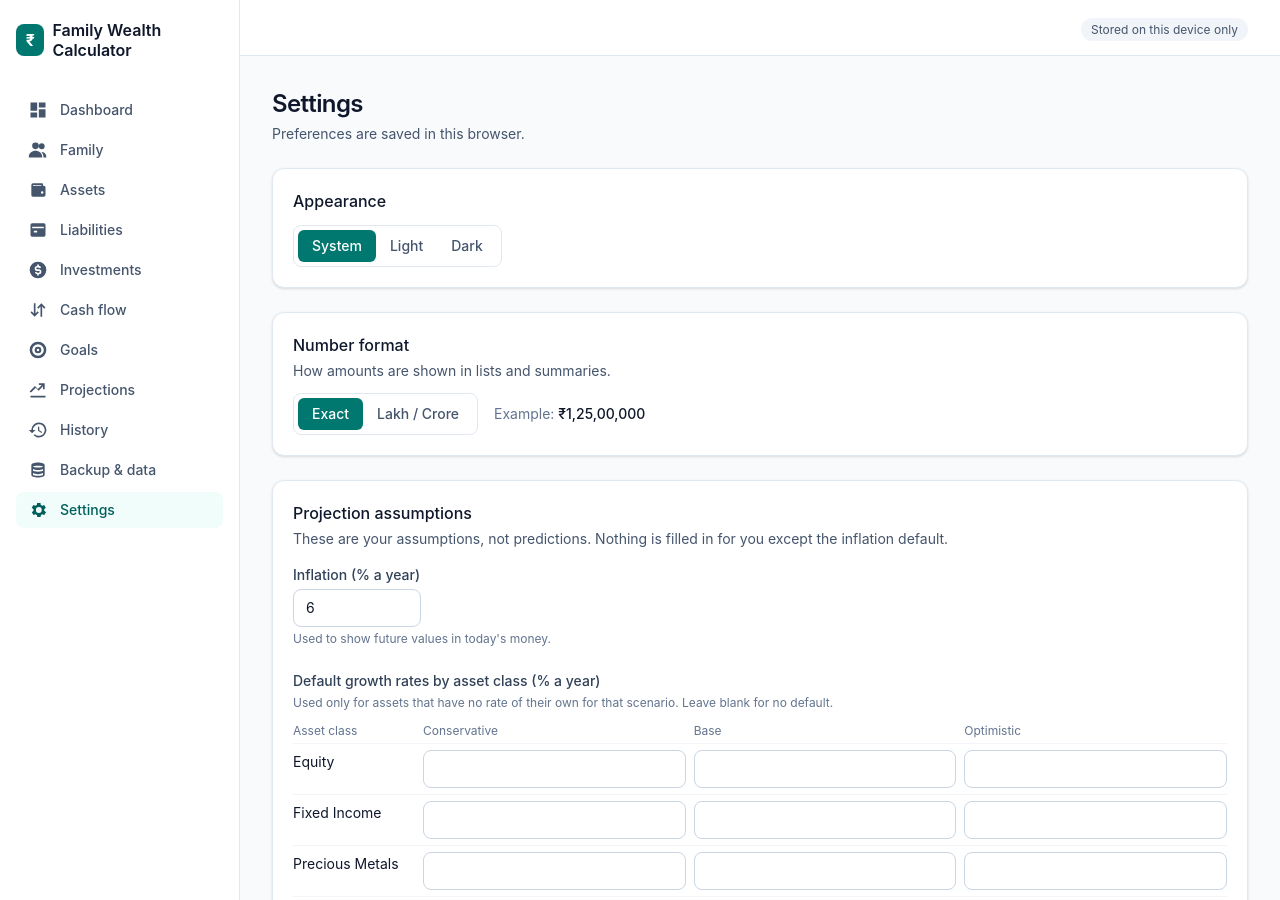
Test: Settings: projection assumptions › validates, saves and persists inflation and class defaults
Replace the text in the field labelled "Inflation (% a year)" with "80": (357, 608) [293, 589, 421, 627]
In the field named "Equity Conservative rate": (554, 769) [423, 750, 686, 788], type "12"
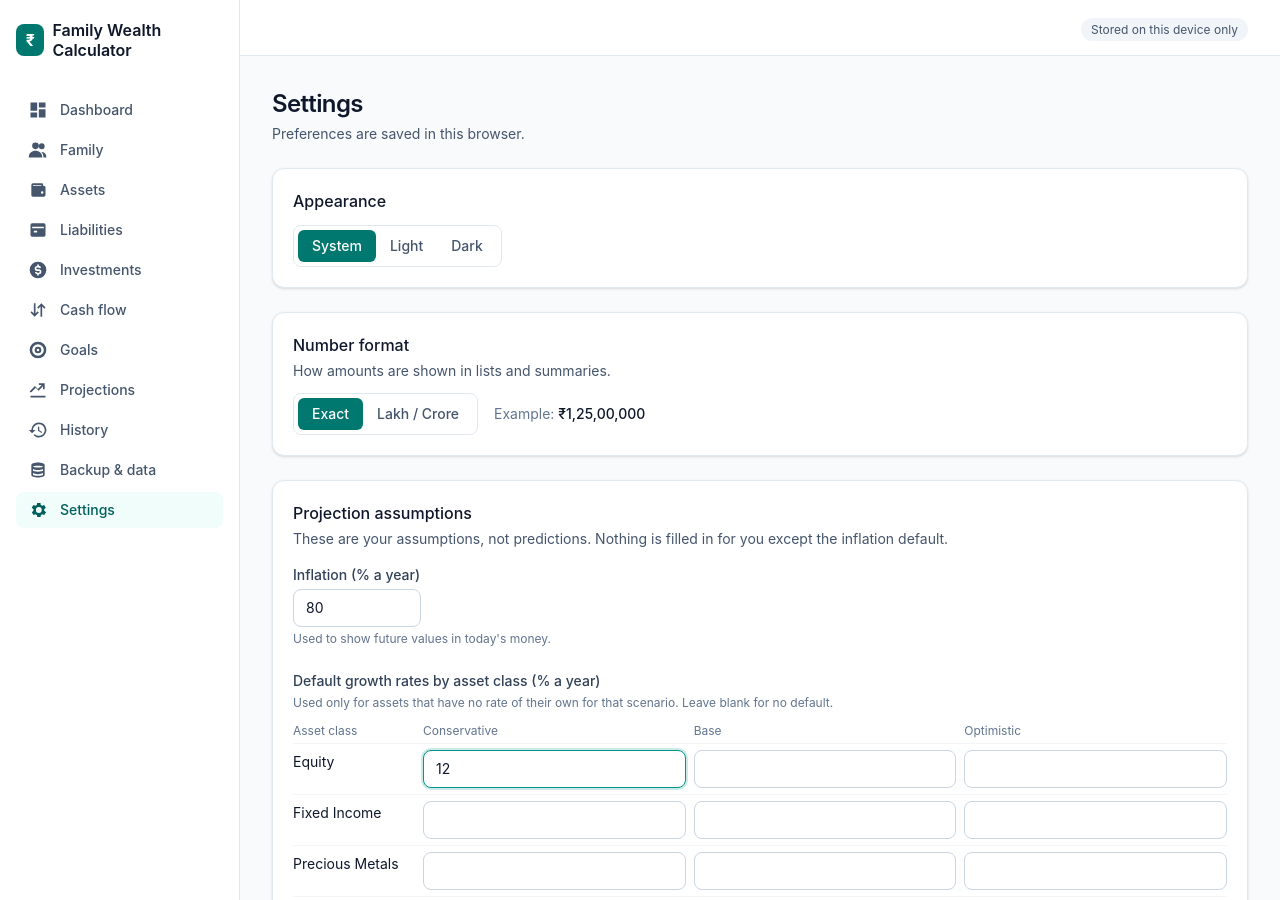
In the field named "Equity Base rate": (825, 769) [694, 750, 956, 788], type "10"
(page scrolled)
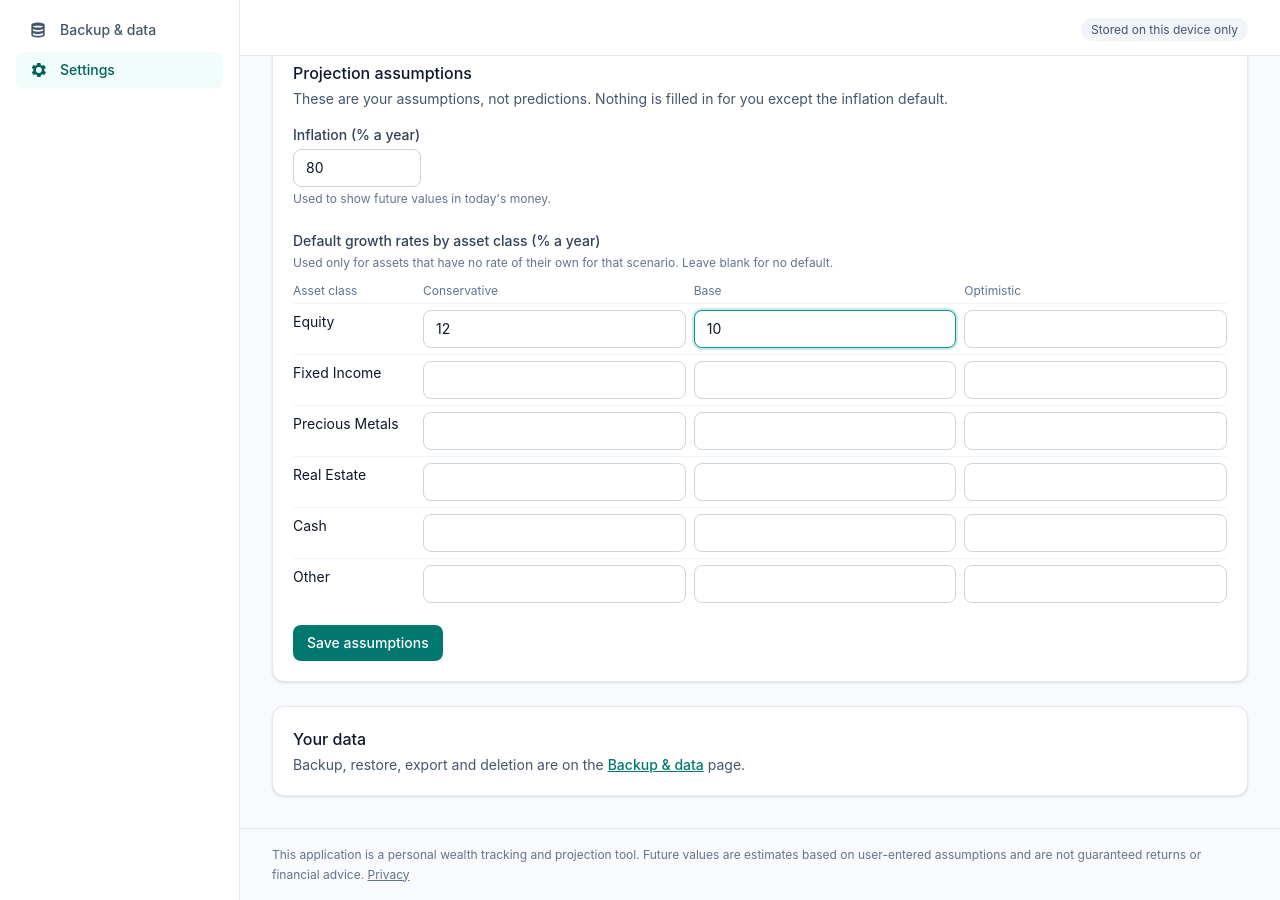
Click the button "Save assumptions": (368, 643) [293, 625, 443, 661]
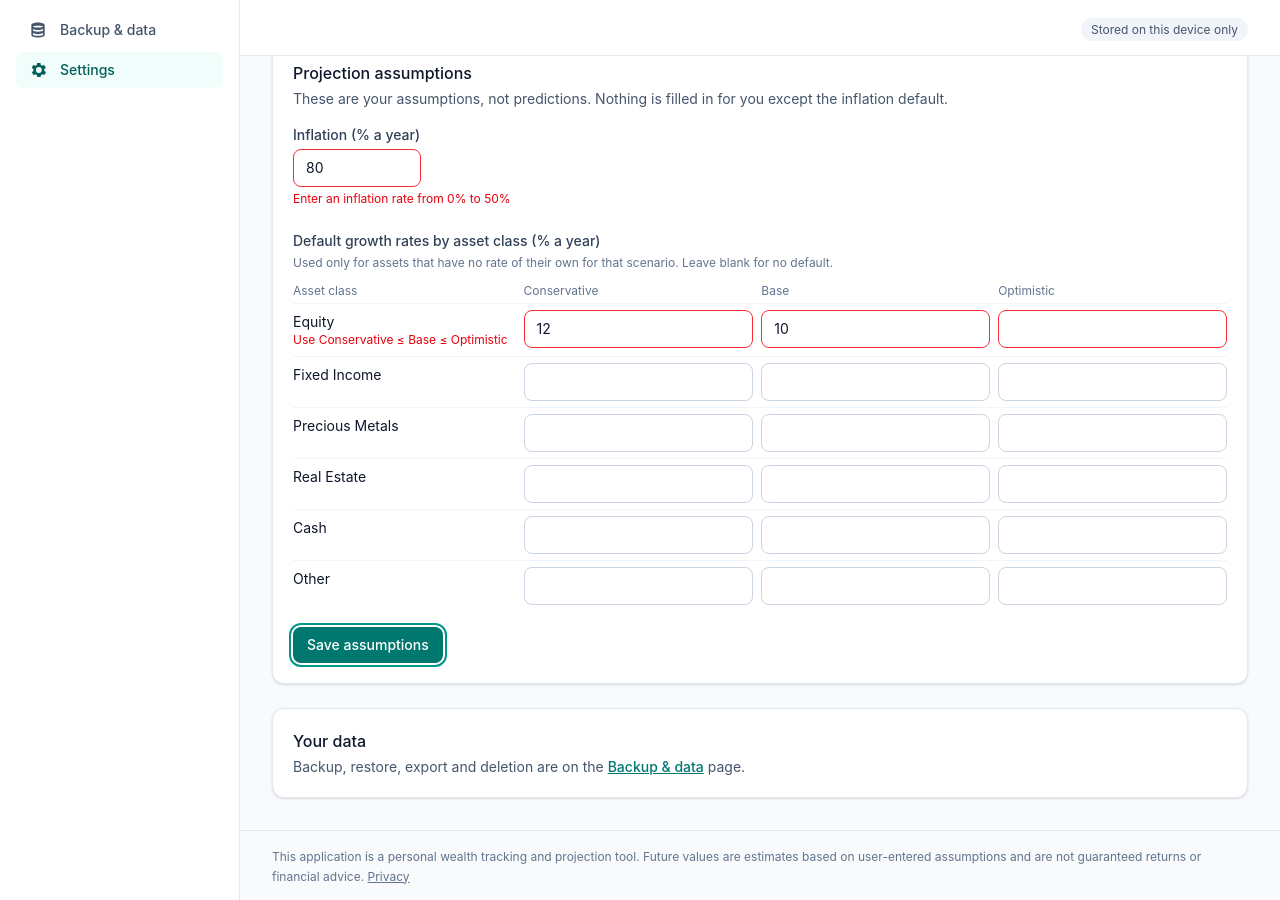
expect the text "Enter an inflation rate from 0% to 50%" is shown: met, box [293, 191, 511, 206]
expect the text "Use Conservative ≤ Base ≤ Optimistic" is shown: met, box [293, 332, 508, 348]
Replace the text in the field labelled "Inflation (% a year)" with "5": (357, 168) [293, 149, 421, 187]
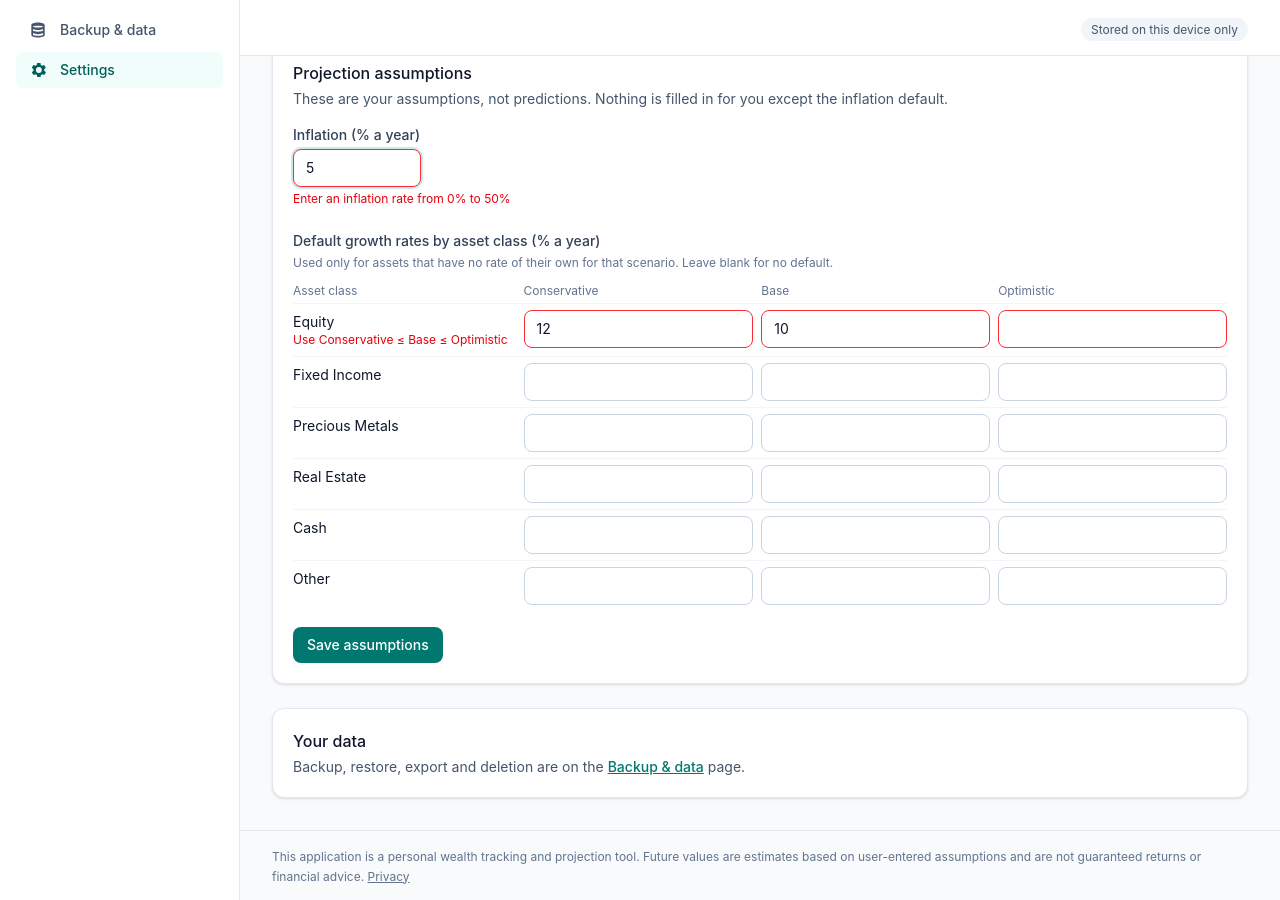
Replace the text in the field named "Equity Conservative rate" with "8": (638, 329) [524, 310, 753, 348]
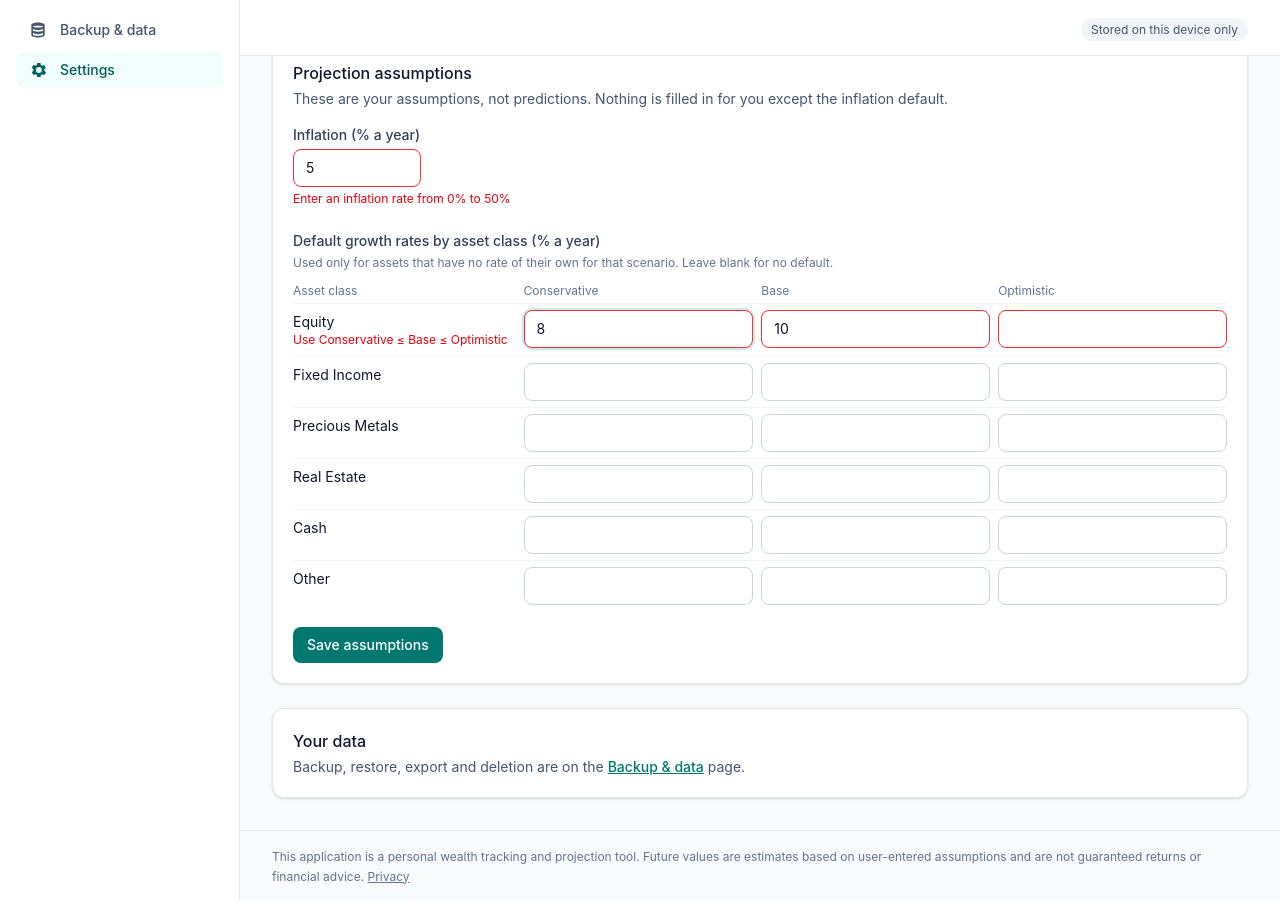
Click the button "Save assumptions": (368, 645) [293, 627, 443, 663]
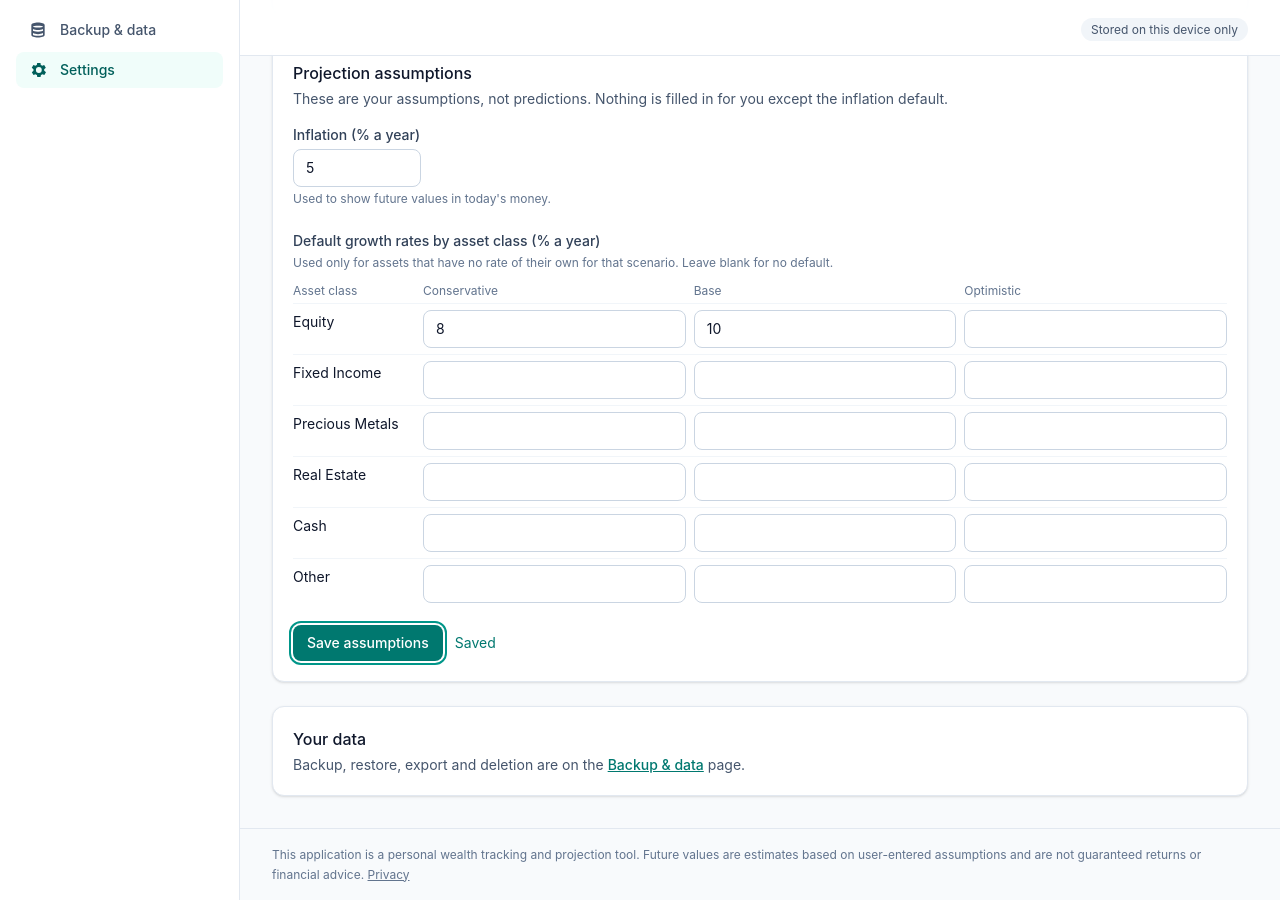
expect the text "Saved" is shown: met, box [455, 633, 496, 653]
